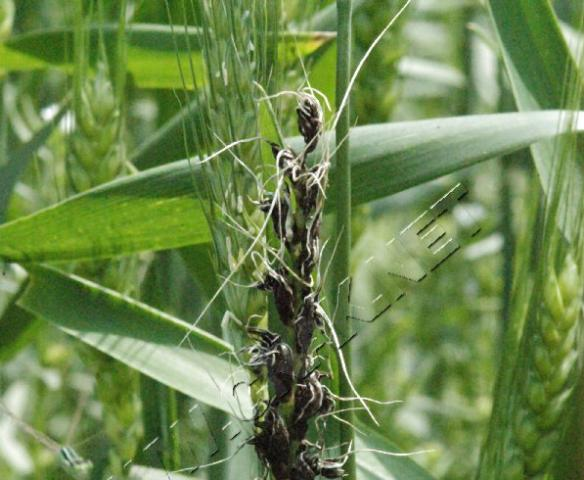Wheat Loose Smut: (255, 89, 345, 479)
